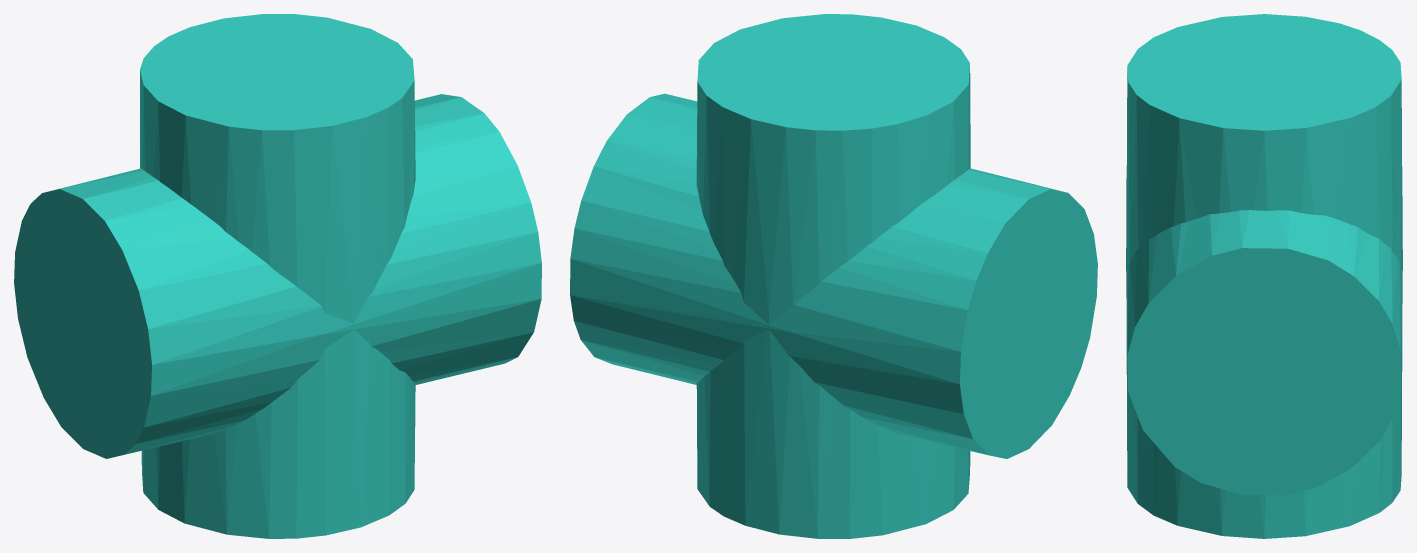
File: ankle_link_sinister_collision.obj
3 views of the same model, side by side, from view 1: azimuth 30°, elevation 25°; view 2: azimuth 150°, elevation 25°; view 3: azimuth 270°, elevation 25° (orthographic).
Parts seen in each view (by area): view 1: Body2, Body1; view 2: Body2, Body1; view 3: Body1, Body2.
Boxes of the visible parts, x1,y1,x2,y2 form: Body2: (14,94,541,458); Body1: (140,14,415,538); Body2: (570,93,1097,458); Body1: (696,14,970,538); Body1: (1126,14,1402,538); Body2: (1126,179,1402,495).
Bounding box in the file's own units: 13 × 13 × 7.99.
